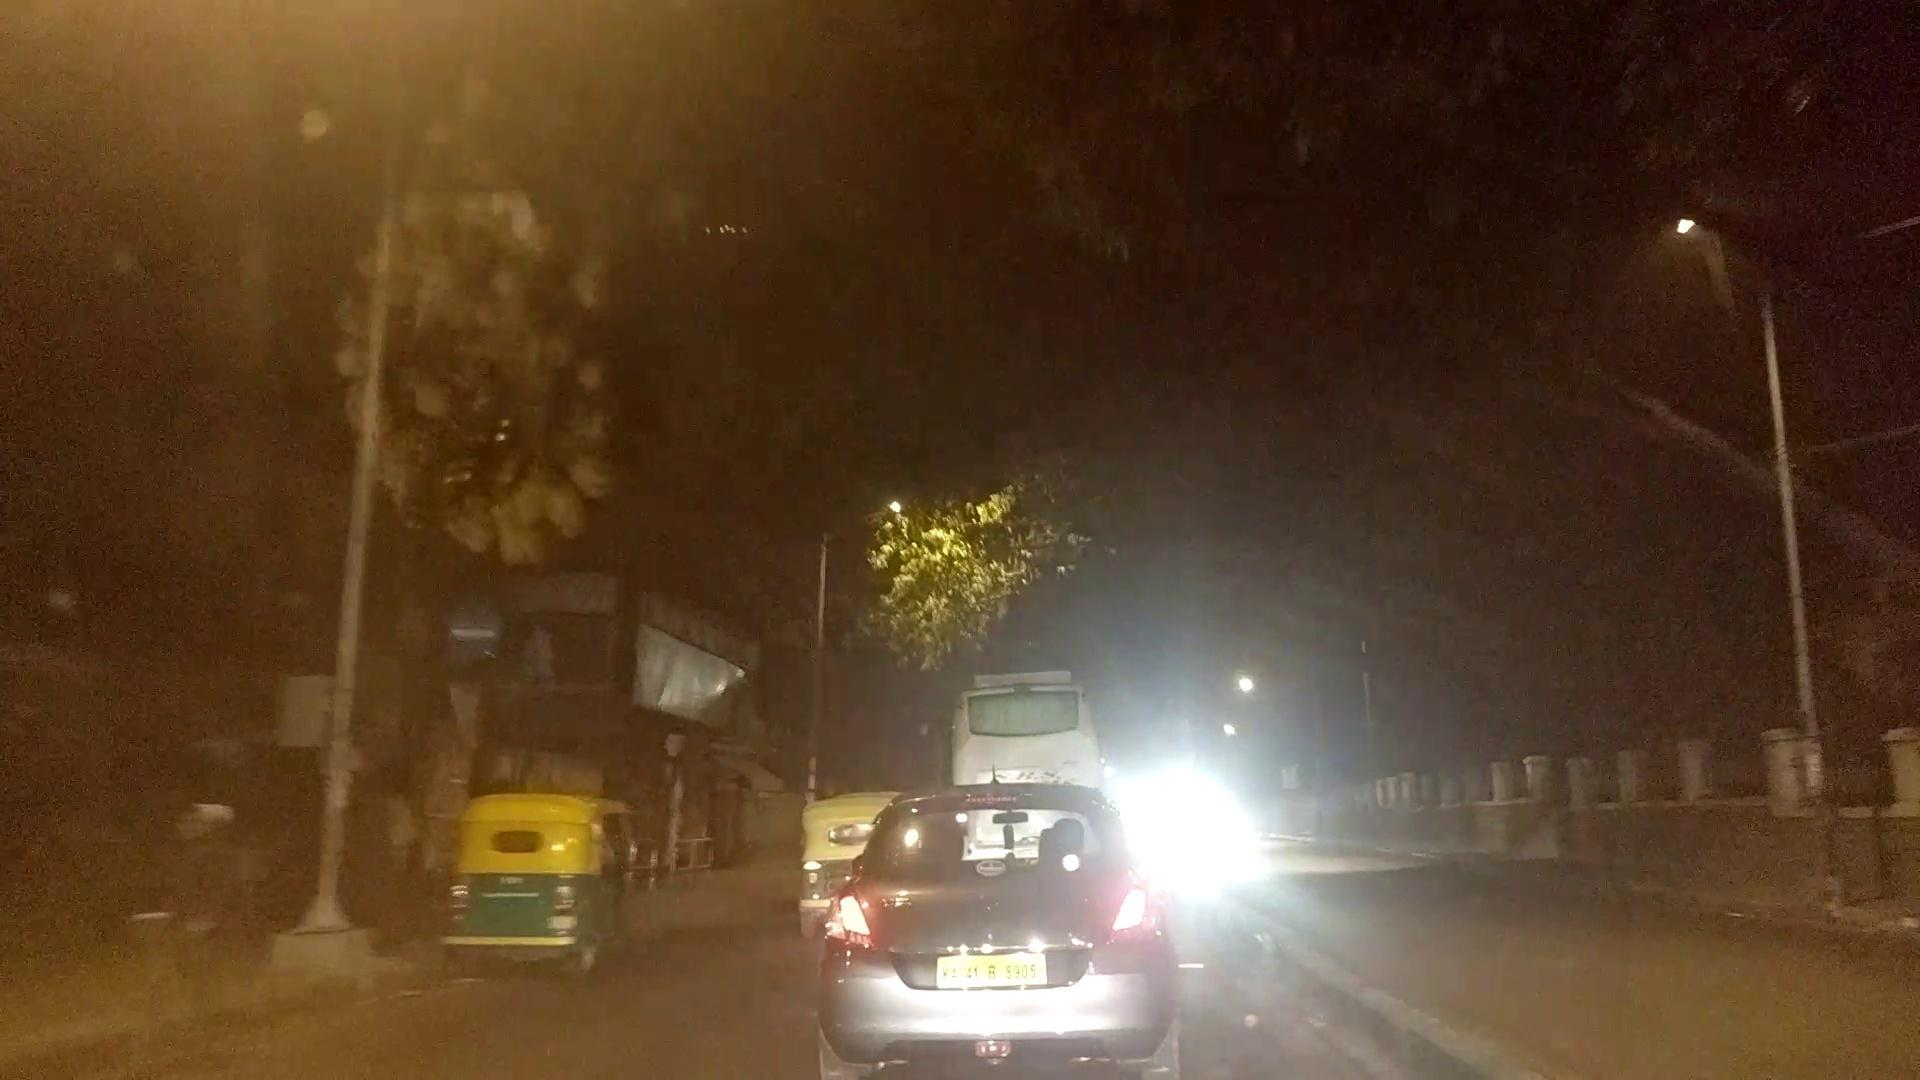on: (0, 0, 990, 331)
